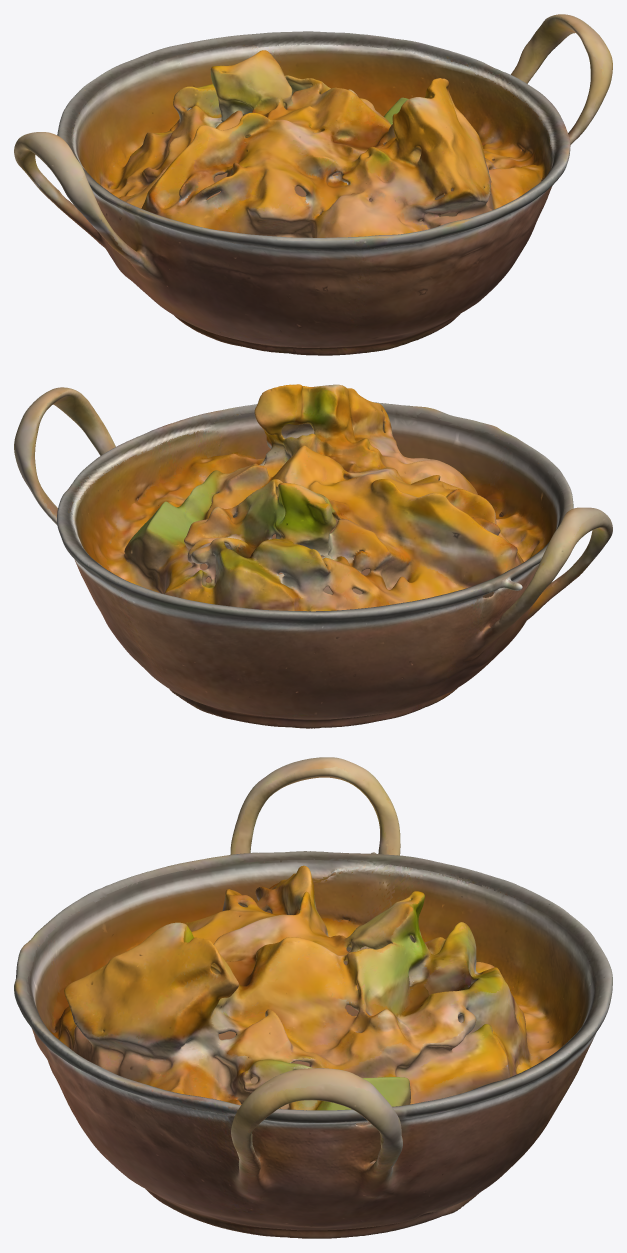
Rendered from curry.glb.
3 renders of one model, top to bottom at view 1: azimuth 30°, elevation 25°; view 2: azimuth 150°, elevation 25°; view 3: azimuth 270°, elevation 25°, orthographic. The views are drawn at different scales.
Size of the model in its own units: 2 by 0.789 by 1.6.
1 material, 1 textured.
